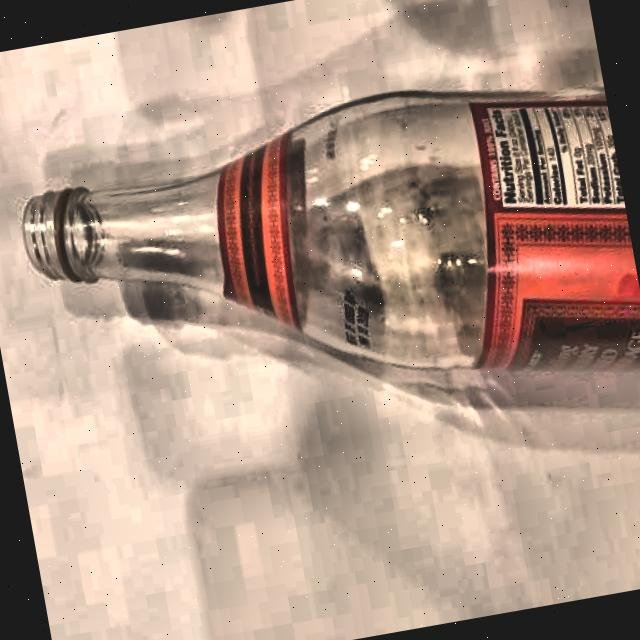glass: (7, 47, 640, 473)
